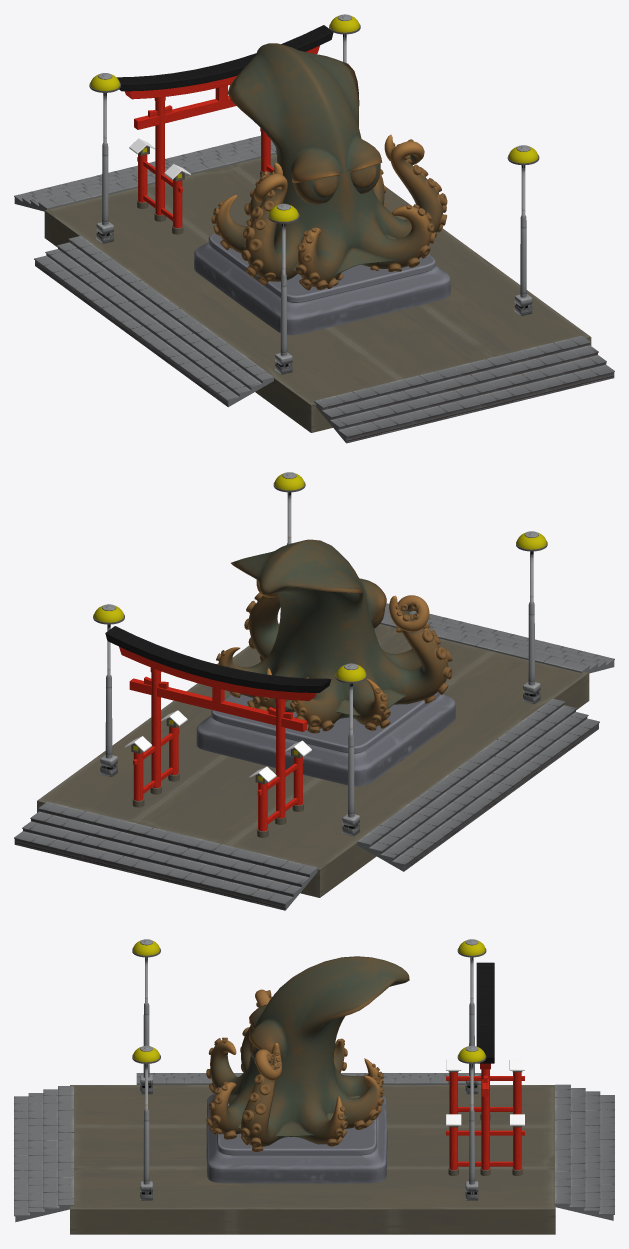
The model's file is Untitteled.gltf.
3 renders of one model, top to bottom at view 1: azimuth 30°, elevation 25°; view 2: azimuth 150°, elevation 25°; view 3: azimuth 270°, elevation 25°, orthographic. The views are drawn at different scales.
Visible parts, largest first — view 1: SM_Squid__1_, SM_cube, SM_ToriiGate, SM_Stairs_Concrete_1, SM_Stairs_Concrete_3, SM_Stairs_Concrete_2, SM_Stairs_Concrete, SM_Stairs_Concrete_8, SM_Stairs_Concrete_6, SM_Stairs_Concrete_5, SM_Stairs_Concrete_7, SM_Stairs_Concrete_4 (+8 smaller); view 2: SM_cube, SM_Squid__1_, SM_ToriiGate, SM_Stairs_Concrete_9, SM_Stairs_Concrete_12, SM_Stairs_Concrete_11, SM_Stairs_Concrete_10, SM_Stairs_Concrete_4, SM_Stairs_Concrete_5, SM_Stairs_Concrete_6, SM_Stairs_Concrete_8, SM_Stairs_Concrete_7 (+7 smaller); view 3: SM_cube, SM_Squid__1_, SM_ToriiGate, SM_Stairs_Concrete_11, SM_Stairs_Concrete_3, SM_Stairs_Concrete_2, SM_Stairs_Concrete, SM_Stairs_Concrete_12, SM_Stairs_Concrete_9, SM_Stairs_Concrete_10, SM_Stairs_Concrete_1, SM_StreetLampRound (+6 smaller).
Boxes of the visible parts, x1=… form: SM_Squid__1_: x1=194, y1=43, x2=450, y2=335; SM_cube: x1=44, y1=154, x2=591, y2=432; SM_ToriiGate: x1=117, y1=25, x2=333, y2=234; SM_Stairs_Concrete_1: x1=314, y1=384, x2=413, y2=443; SM_Stairs_Concrete_3: x1=515, y1=335, x2=614, y2=394; SM_Stairs_Concrete_2: x1=448, y1=352, x2=547, y2=410; SM_Stairs_Concrete: x1=381, y1=368, x2=480, y2=426; SM_Stairs_Concrete_8: x1=188, y1=349, x2=273, y2=407; SM_Stairs_Concrete_6: x1=111, y1=292, x2=196, y2=350; SM_Stairs_Concrete_5: x1=72, y1=264, x2=157, y2=321; SM_Stairs_Concrete_7: x1=150, y1=320, x2=234, y2=378; SM_Stairs_Concrete_4: x1=34, y1=235, x2=118, y2=293; SM_cube: x1=37, y1=623, x2=589, y2=897; SM_Squid__1_: x1=196, y1=539, x2=455, y2=786; SM_ToriiGate: x1=105, y1=626, x2=331, y2=837; SM_Stairs_Concrete_9: x1=217, y1=851, x2=317, y2=910; SM_Stairs_Concrete_12: x1=81, y1=818, x2=182, y2=877; SM_Stairs_Concrete_11: x1=14, y1=801, x2=114, y2=861; SM_Stairs_Concrete_10: x1=149, y1=835, x2=249, y2=894; SM_Stairs_Concrete_4: x1=357, y1=813, x2=443, y2=871; SM_Stairs_Concrete_5: x1=396, y1=784, x2=482, y2=842; SM_Stairs_Concrete_6: x1=436, y1=755, x2=521, y2=814; SM_Stairs_Concrete_8: x1=514, y1=698, x2=599, y2=757; SM_Stairs_Concrete_7: x1=475, y1=727, x2=560, y2=785; SM_cube: x1=70, y1=1085, x2=555, y2=1234; SM_Squid__1_: x1=206, y1=956, x2=409, y2=1183; SM_ToriiGate: x1=446, y1=962, x2=524, y2=1176; SM_Stairs_Concrete_11: x1=555, y1=1173, x2=614, y2=1220; SM_Stairs_Concrete_3: x1=14, y1=1175, x2=73, y2=1222; SM_Stairs_Concrete_2: x1=14, y1=1145, x2=73, y2=1185; SM_Stairs_Concrete: x1=14, y1=1115, x2=73, y2=1155; SM_Stairs_Concrete_12: x1=555, y1=1144, x2=614, y2=1184; SM_Stairs_Concrete_9: x1=555, y1=1084, x2=614, y2=1124; SM_Stairs_Concrete_10: x1=555, y1=1114, x2=614, y2=1154; SM_Stairs_Concrete_1: x1=14, y1=1086, x2=73, y2=1125; SM_StreetLampRound: x1=132, y1=1045, x2=160, y2=1200.
Bounding box in the file's own units: 10.79 × 7.38 × 18.83.
